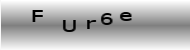6: (100, 11, 112, 25)
F: (32, 8, 44, 22)
U: (62, 18, 76, 32)
e: (119, 11, 132, 21)
r: (86, 18, 97, 30)
